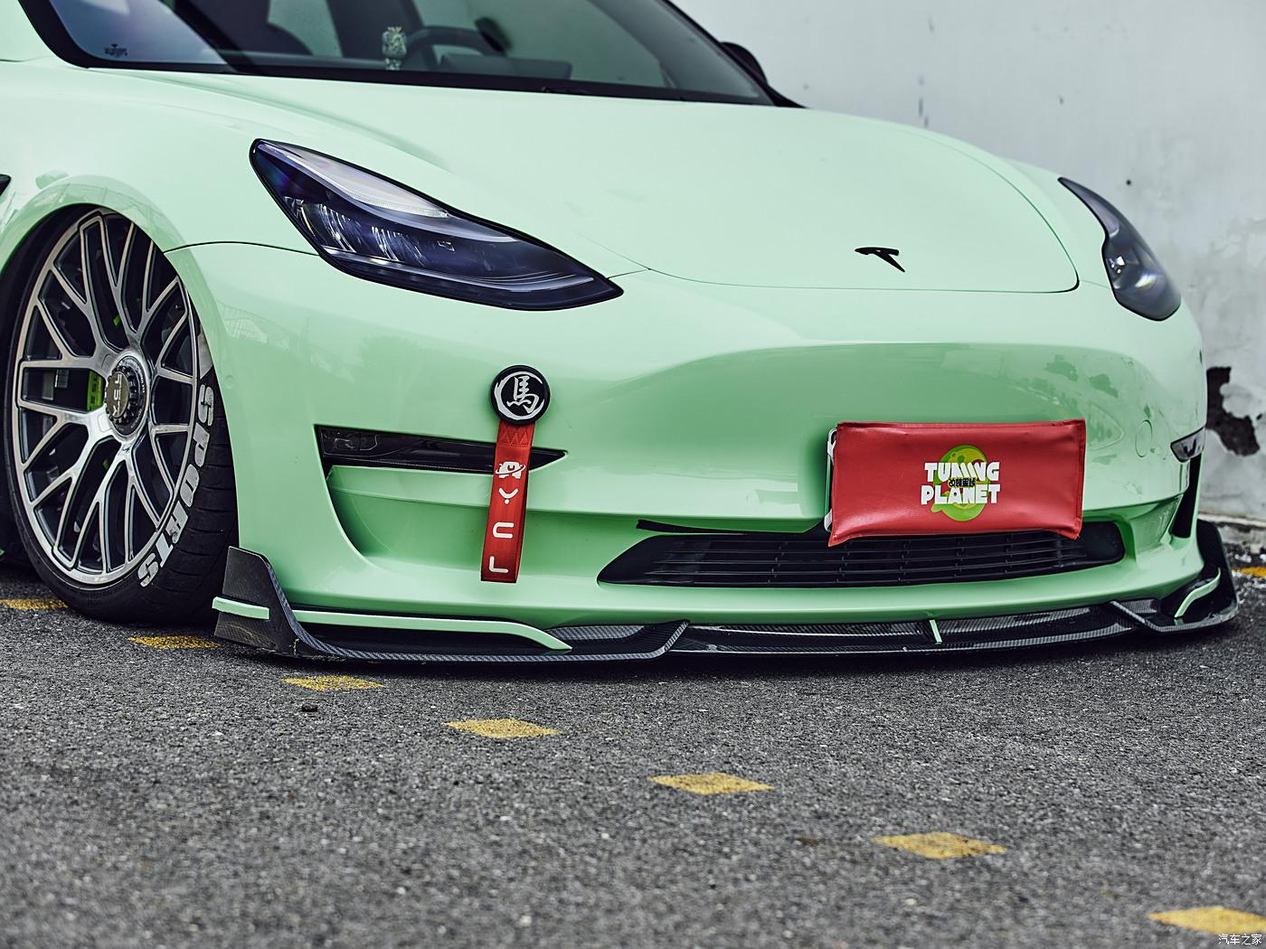Tesla: (853, 246, 909, 275)
